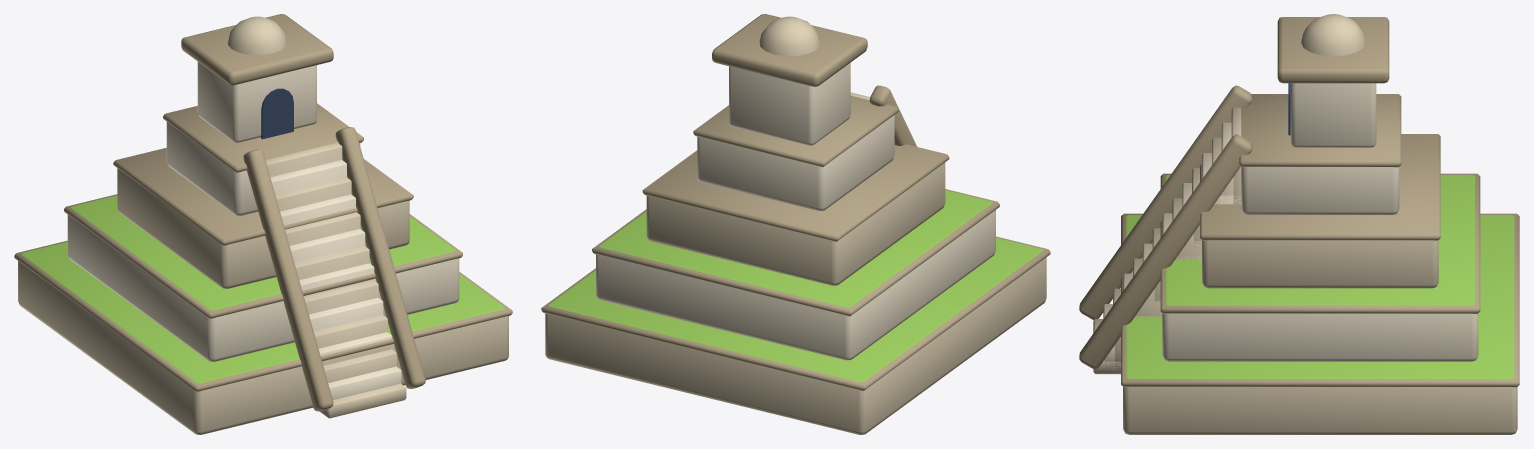
The model's file is temple_steps.glb.
3 renders of one model, left to right at view 1: azimuth 30°, elevation 25°; view 2: azimuth 150°, elevation 25°; view 3: azimuth 270°, elevation 25°, orthographic. The views are drawn at different scales.
Visible parts, largest first — view 1: temple_steps; view 2: temple_steps; view 3: temple_steps.
Part boxes in pixels (x1,y1,x2,y2): temple_steps: (14, 14, 512, 434); temple_steps: (541, 14, 1050, 434); temple_steps: (1079, 14, 1519, 434).
Size of the model in its own units: 6.06 by 5.65 by 6.7.
